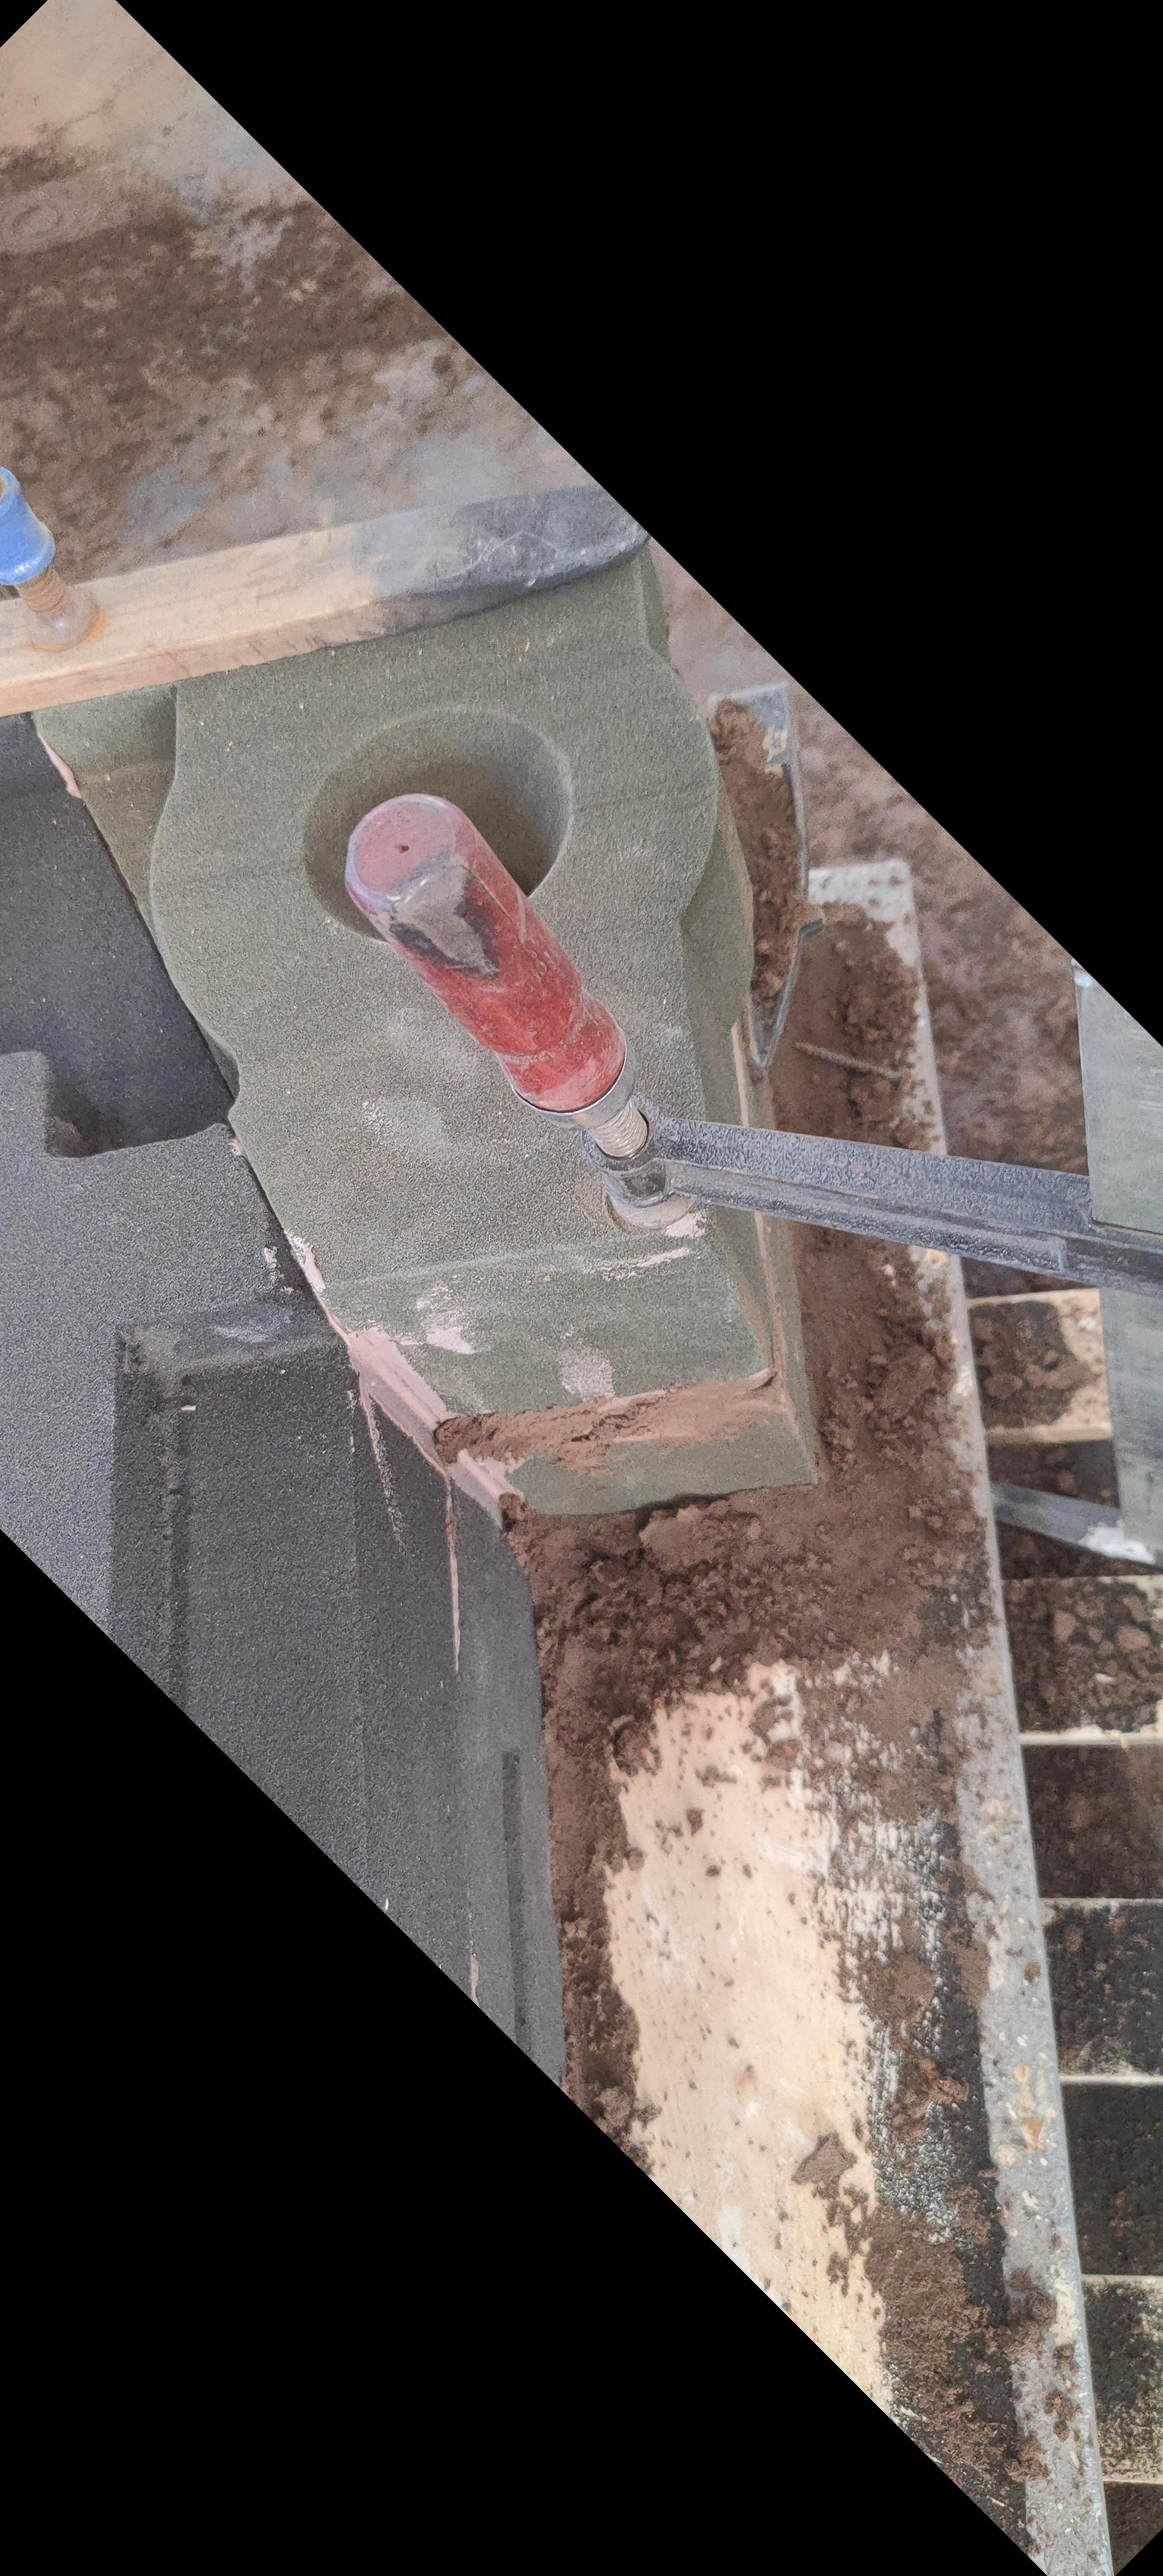pouring hole: (297, 706, 573, 948)
